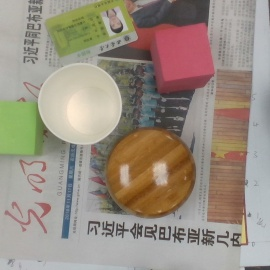card: (45, 1, 138, 64)
chess: (106, 128, 196, 218)
cup: (38, 63, 122, 144)
